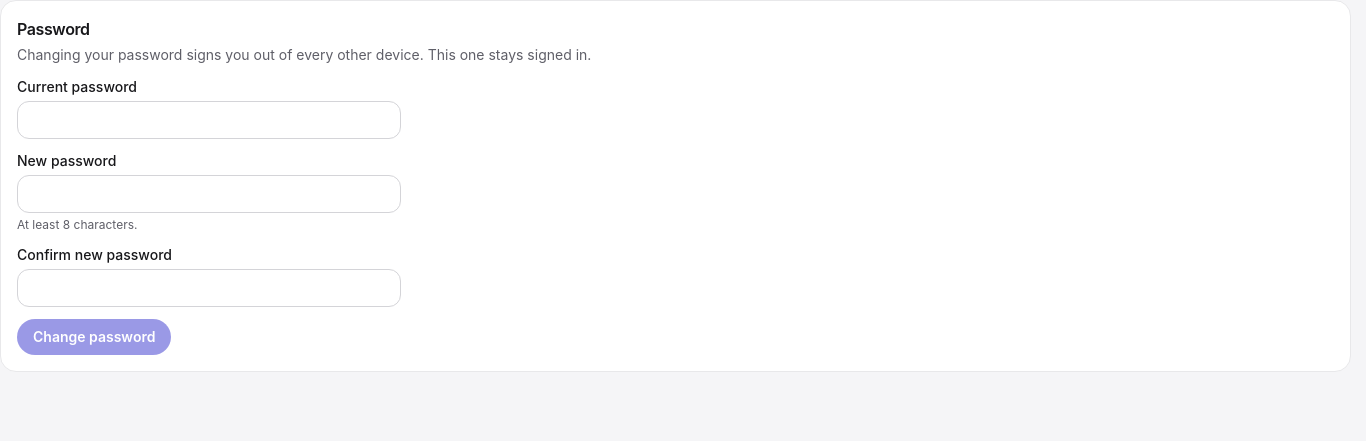
Test: ChangePasswordSection › sends the current and new password and says the other devices were signed out
This screenshot has width=1366, height=441.
Type "supersecret" into the password field labelled "Current password" at (209, 120), box [17, 101, 401, 139]
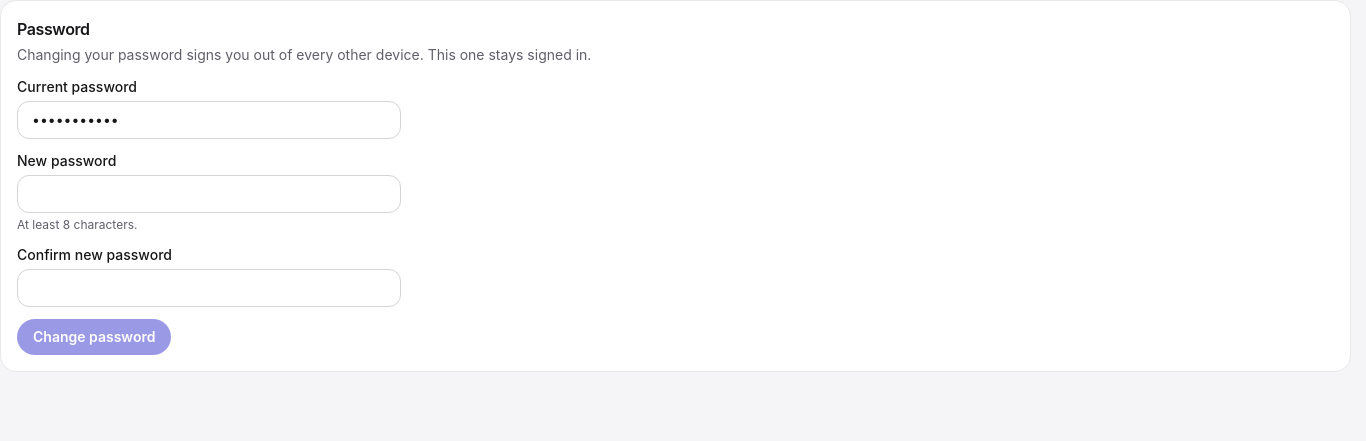
Type "evenmoresecret" into the password field labelled "New password" at (209, 194), box [17, 175, 401, 213]
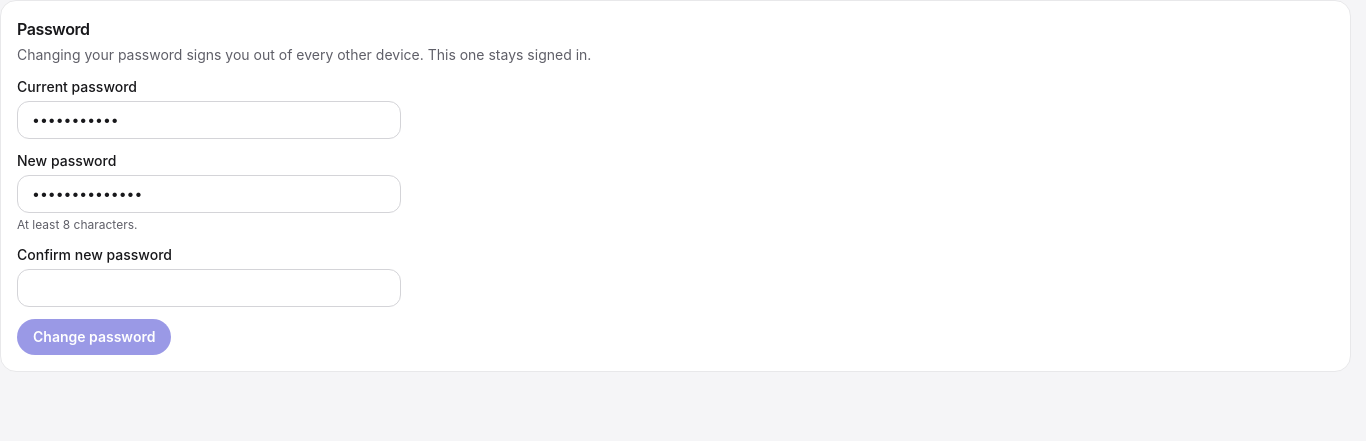
Type "evenmoresecret" into the password field labelled "Confirm new password" at (209, 288), box [17, 269, 401, 307]
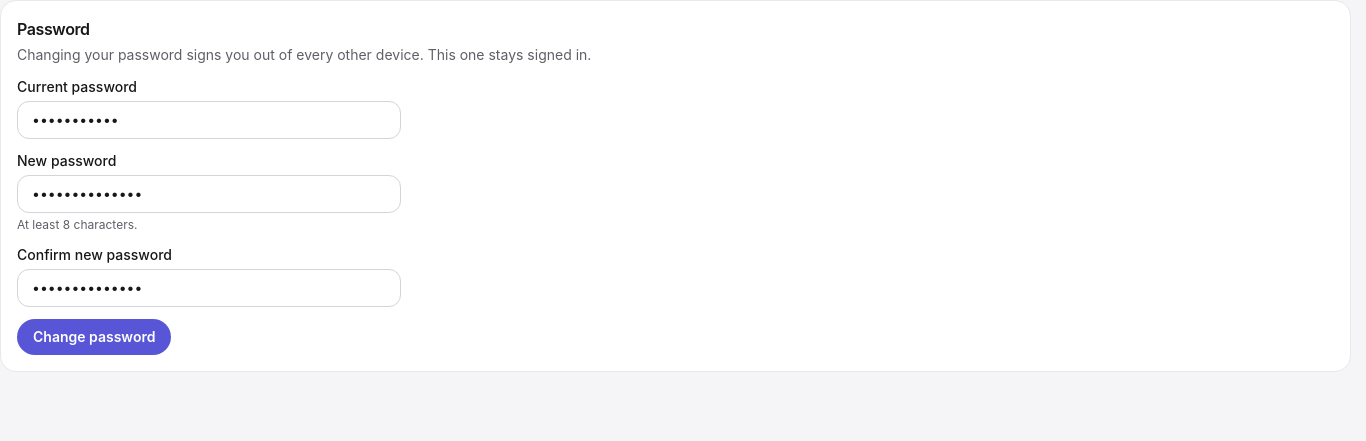
Click the button "Change password" at (94, 337), box [17, 319, 171, 355]
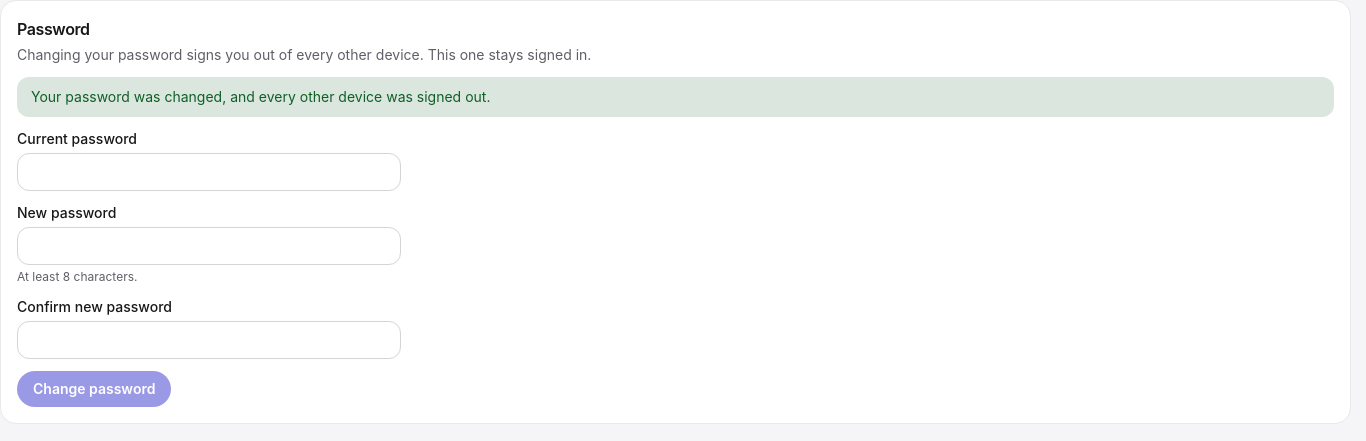
Expected: the message shows "signed out", [31, 88, 490, 105]
Expected: the password field labelled "Current password" is empty, [17, 153, 401, 191]
Expected: the password field labelled "New password" is empty, [17, 227, 401, 265]
